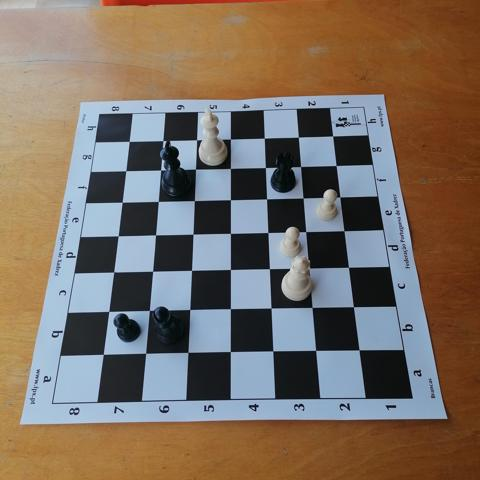xcorner: (95, 347, 110, 362), (138, 346, 153, 361), (180, 346, 195, 361), (223, 345, 238, 360), (266, 344, 281, 359), (309, 343, 324, 358), (101, 304, 116, 319), (141, 303, 156, 318), (182, 302, 197, 317), (223, 302, 238, 317), (264, 301, 279, 316), (347, 299, 362, 314), (106, 264, 121, 279), (184, 263, 199, 278), (223, 262, 238, 277), (263, 261, 278, 276), (302, 260, 317, 275), (342, 259, 357, 274), (110, 228, 125, 243), (148, 227, 163, 242), (223, 225, 238, 240), (261, 224, 276, 239), (299, 223, 314, 238), (151, 193, 166, 208), (187, 192, 202, 207), (223, 191, 238, 206), (260, 190, 275, 205), (297, 189, 312, 204), (333, 188, 348, 203), (118, 162, 133, 177), (153, 161, 168, 176), (188, 160, 203, 175), (259, 159, 274, 174), (294, 158, 309, 173), (329, 157, 344, 172), (122, 133, 137, 148), (156, 132, 171, 147), (190, 131, 205, 146), (292, 128, 307, 143), (326, 127, 341, 142), (352, 343, 367, 357), (306, 300, 320, 315), (145, 264, 160, 278), (186, 226, 200, 241), (338, 222, 352, 237), (115, 194, 129, 209), (223, 160, 238, 174), (224, 130, 238, 145), (258, 129, 272, 144)
